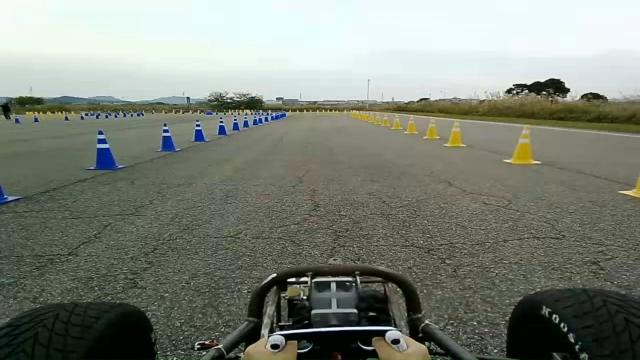blue cone: (84, 129, 126, 170), (154, 122, 181, 152), (190, 119, 210, 142), (0, 185, 23, 204), (216, 116, 228, 136), (231, 116, 240, 131), (242, 116, 250, 128)
yellow cone: (502, 124, 542, 165), (442, 120, 466, 147), (618, 174, 640, 198), (423, 118, 440, 139), (404, 115, 418, 134), (390, 115, 402, 130), (380, 114, 390, 126), (367, 112, 375, 123), (362, 111, 370, 122), (372, 115, 380, 125)
